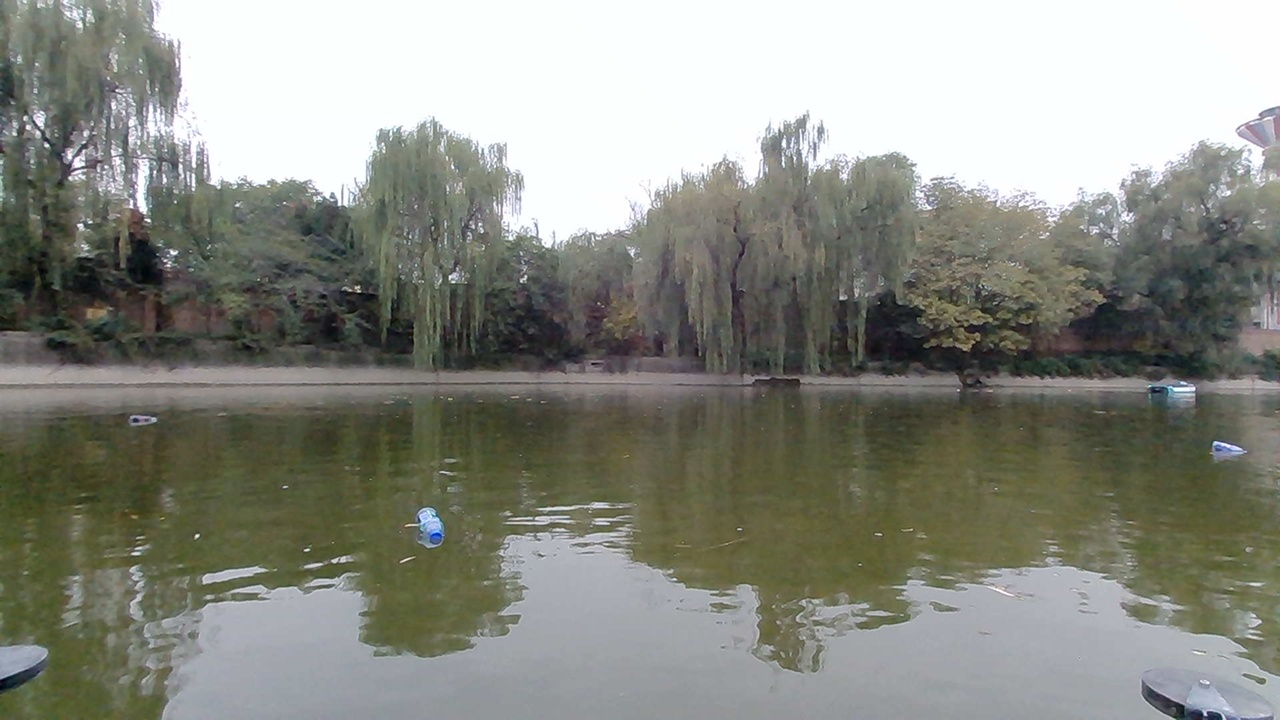bottle: (407, 509, 457, 546), (1202, 434, 1247, 468), (129, 396, 161, 430)
